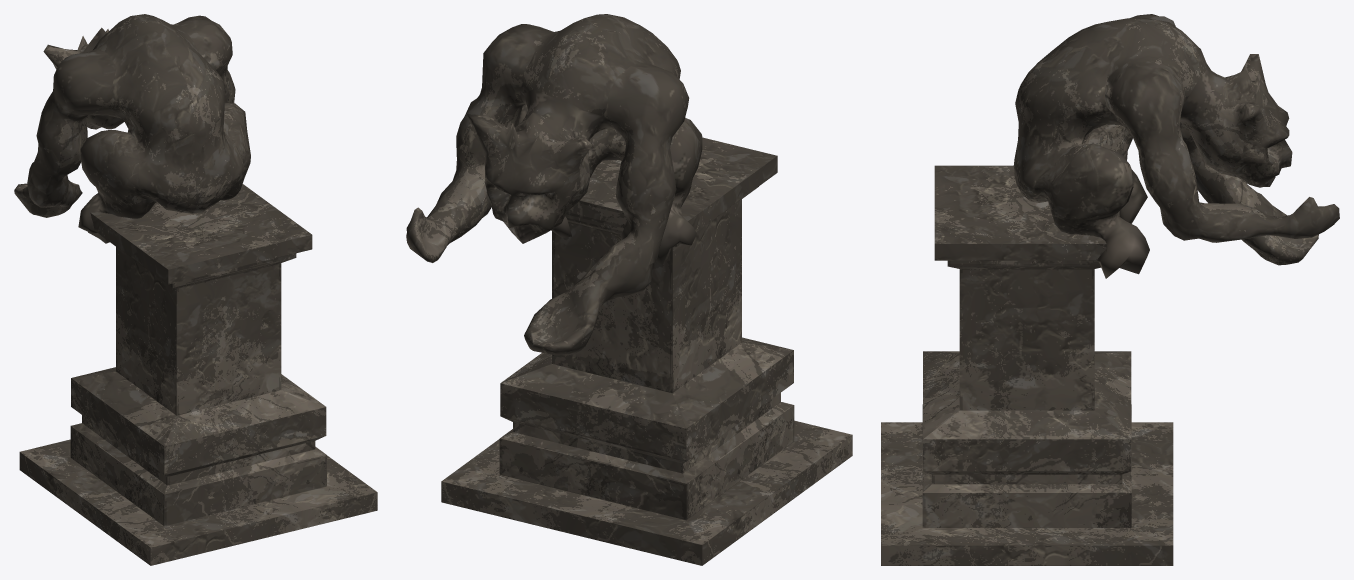
File: SM_PRP_GargoyleStand_RightArm.fbx
3 views of the same model, side by side, from view 1: azimuth 30°, elevation 25°; view 2: azimuth 150°, elevation 25°; view 3: azimuth 270°, elevation 25° (orthographic). The views are drawn at different scales.
Visible parts, largest first — view 1: m_GargoyleStand_low; view 2: m_GargoyleStand_low; view 3: m_GargoyleStand_low.
Part boxes in pixels (bbox=[...]): m_GargoyleStand_low: bbox=[14, 14, 377, 565]; m_GargoyleStand_low: bbox=[406, 14, 852, 565]; m_GargoyleStand_low: bbox=[881, 14, 1339, 565].
Bounding box in the file's own units: 318 × 580 × 500.
1 material, 1 textured.
